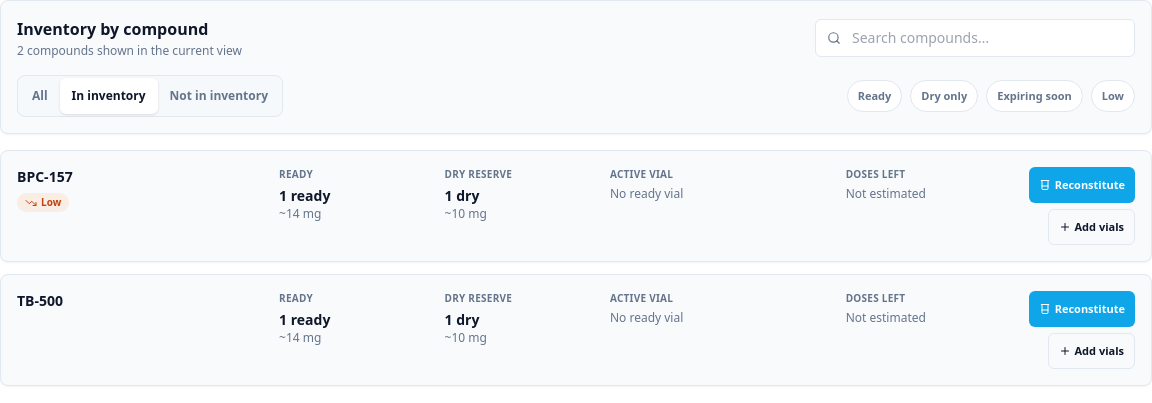
Test: CompoundInventoryView › "Low" chip keeps compounds with LOW_INVENTORY
The width and height of the screenshot is (1152, 403).
What coordinates should you click on to do the following:
click the button "Low"
I would click on:
 (1113, 96)
Its box is [1091,80,1135,112].
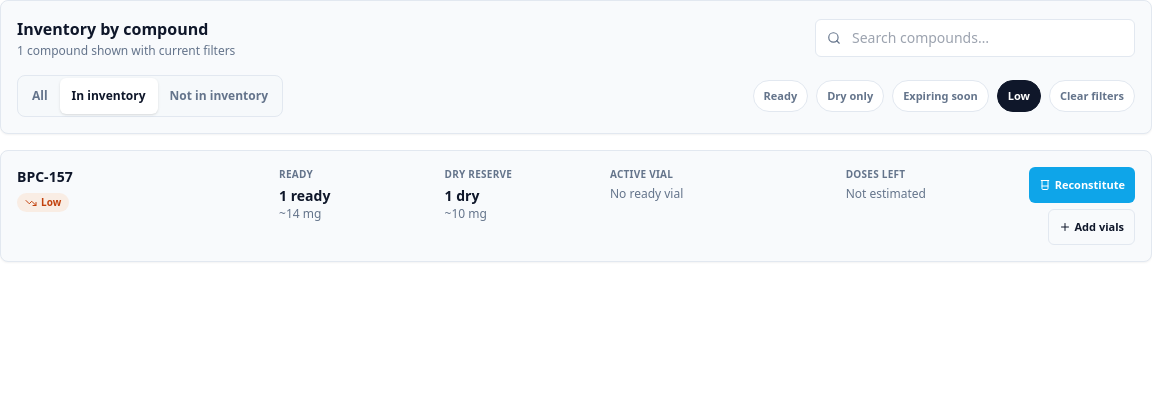
Expected: the heading "BPC-157" is shown, [17,167,73,186]
Result: the link "TB-500" is gone
